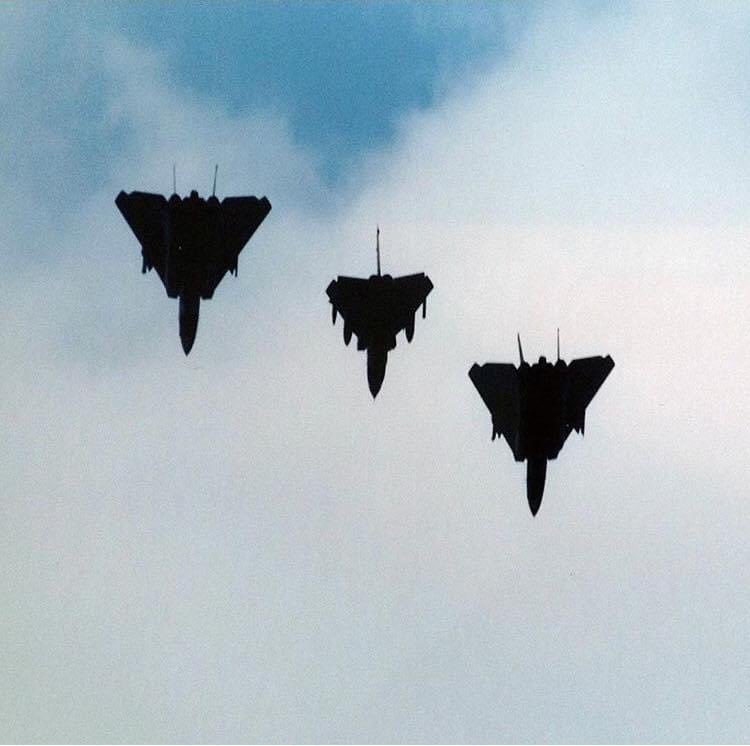F14: (114, 163, 273, 356), (467, 327, 616, 518)
Tornado: (324, 223, 434, 404)
